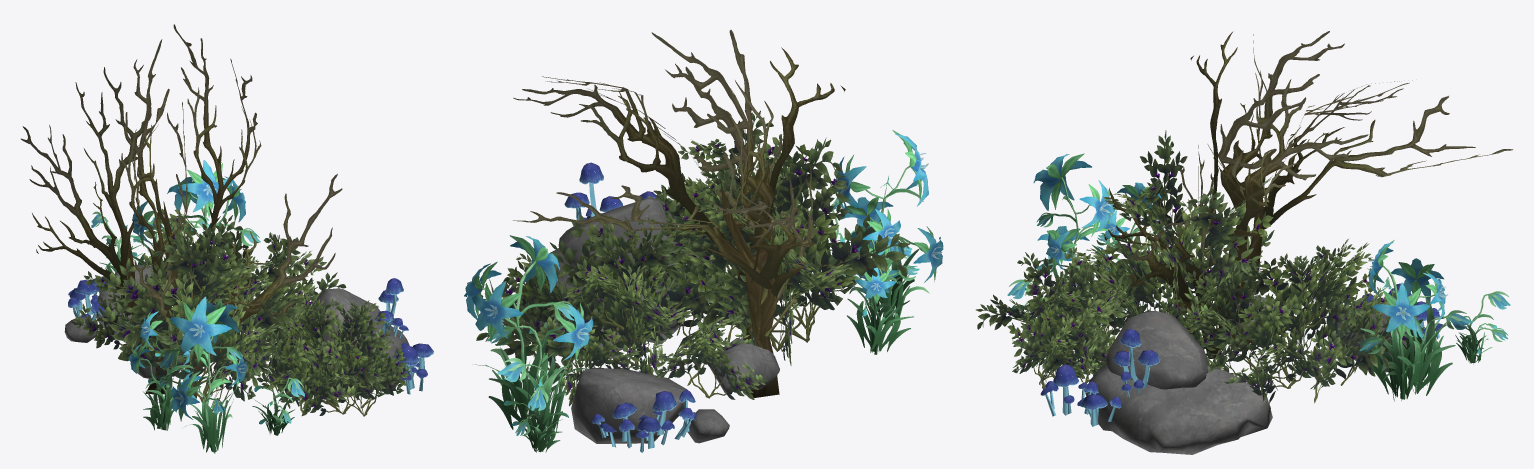
The picture shows the model from 3 angles, left to right: view 1: azimuth 30°, elevation 25°; view 2: azimuth 150°, elevation 25°; view 3: azimuth 270°, elevation 25°; orthographic projection. The views are drawn at different scales.
Bounding box in the file's own units: 7.97 × 7.81 × 11.04.
Materials: 5 (5 with a texture image).
